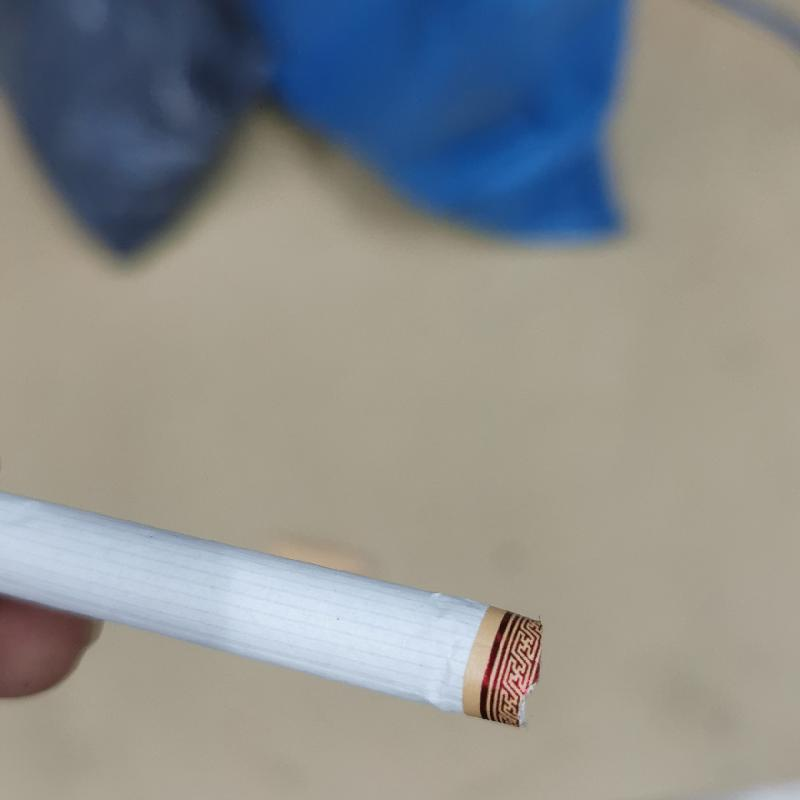cigarette: (0, 471, 547, 734)
